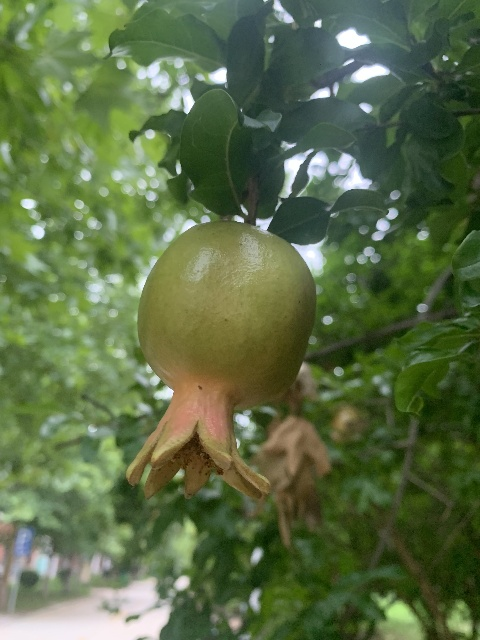mid-growth: (122, 219, 317, 503)
